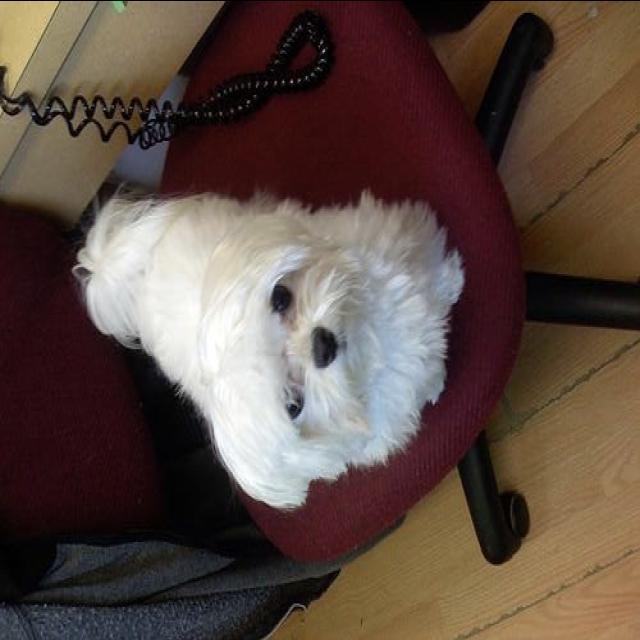maltese_dog: (68, 190, 462, 514)
